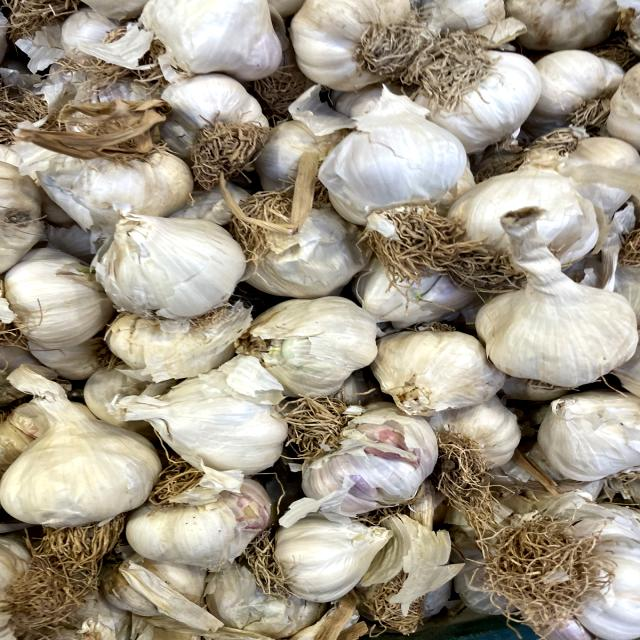garlic: (308, 93, 484, 270), (0, 372, 164, 533), (77, 199, 259, 325)
